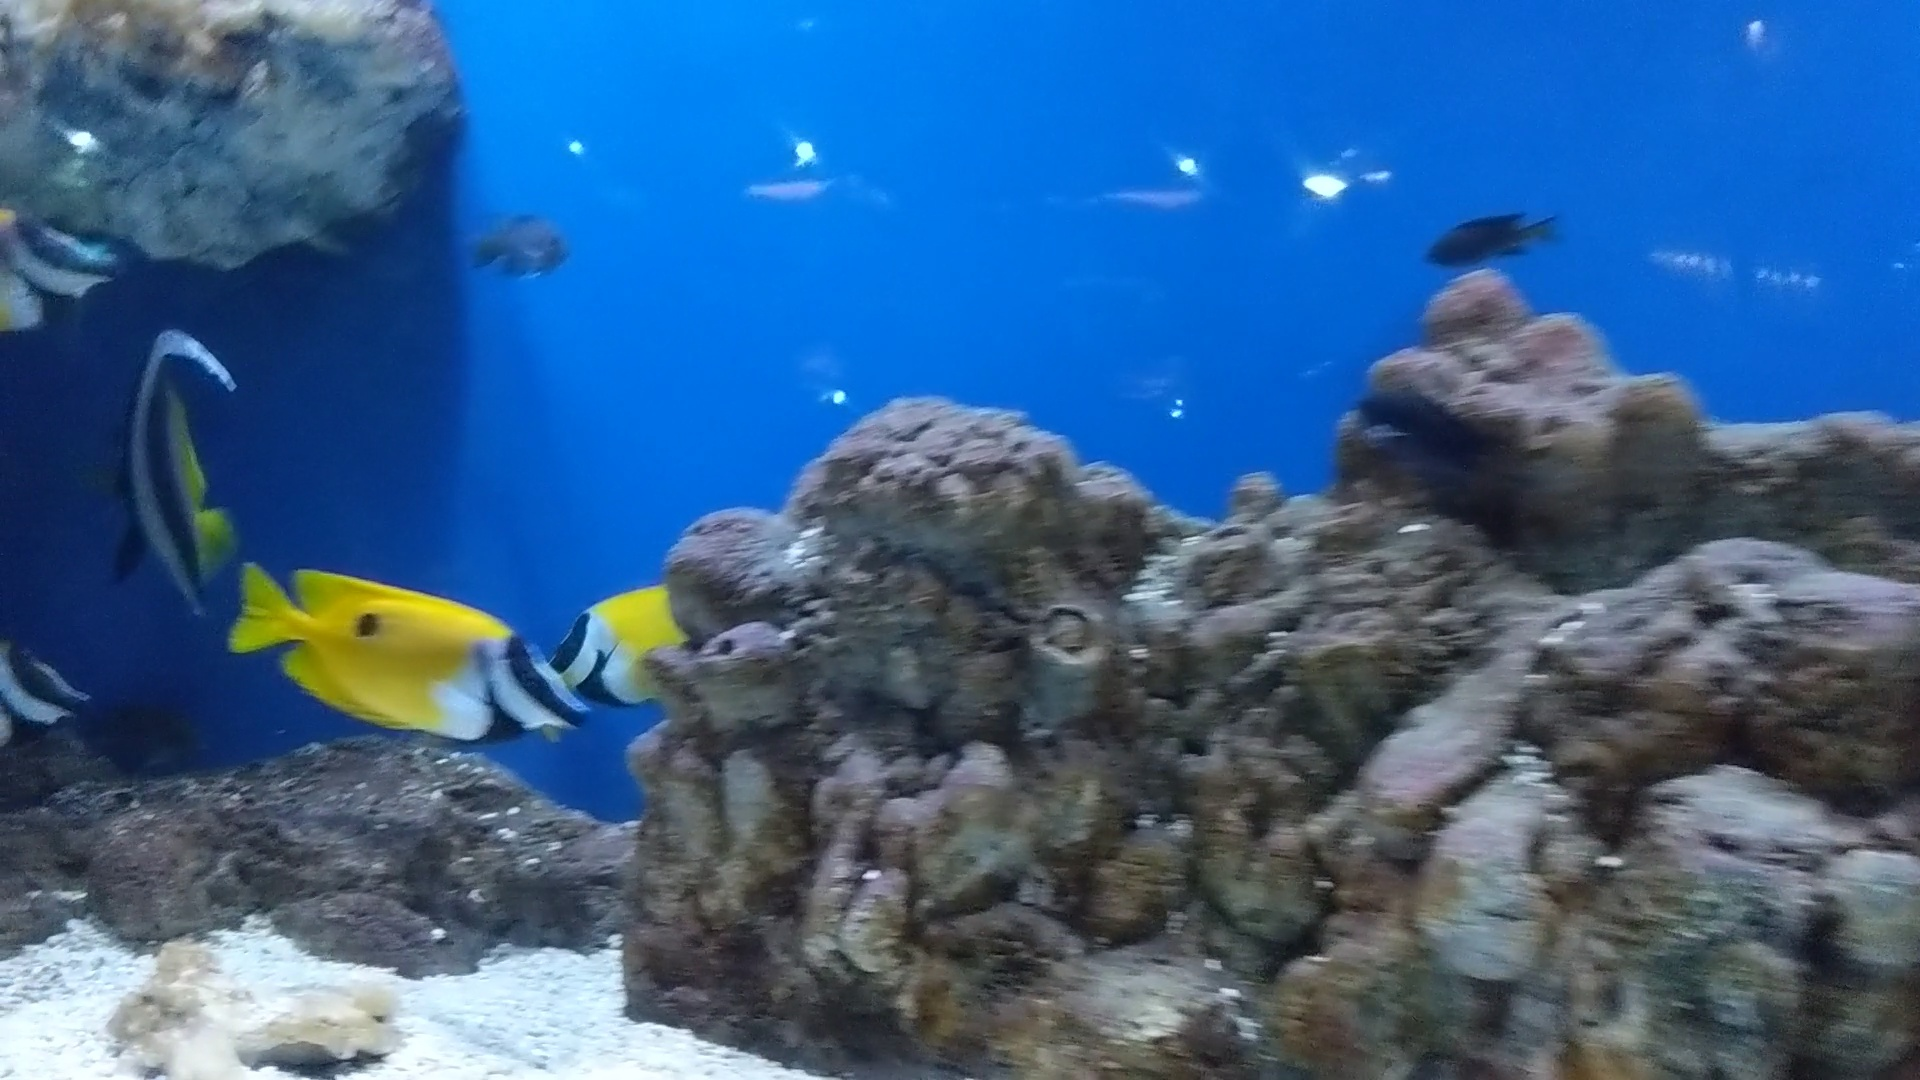butterflyfish: (212, 530, 587, 766), (556, 580, 676, 738)
rabbitfish: (69, 297, 255, 618)
